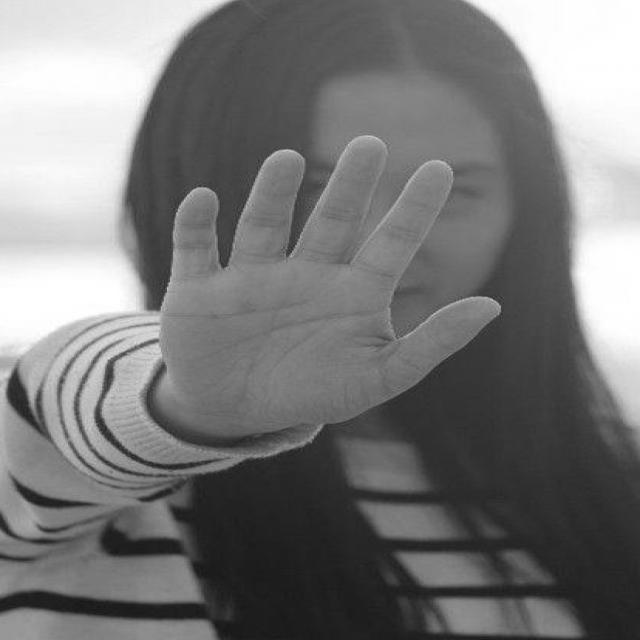stop: (150, 128, 511, 443)
